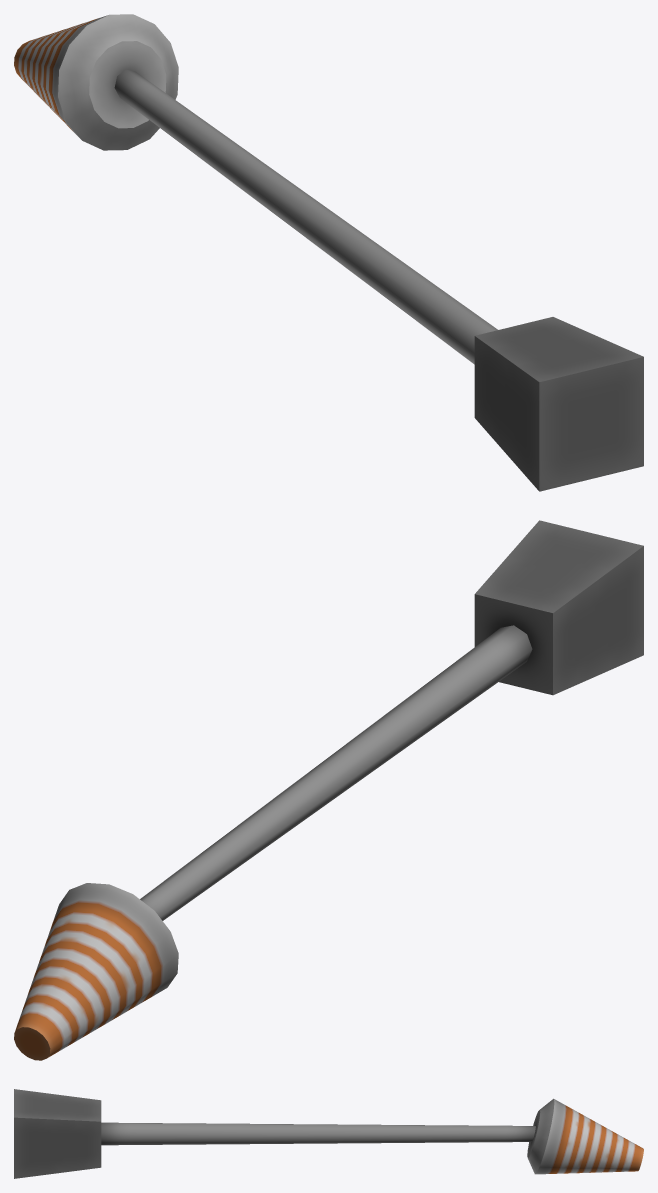
File: Libra_Antenna_1.obj
3 renders of one model, top to bottom at view 1: azimuth 30°, elevation 25°; view 2: azimuth 150°, elevation 25°; view 3: azimuth 270°, elevation 25°, orthographic. The views are drawn at different scales.
Parts seen in each view (by area): view 1: Libra_Antenna_1; view 2: Libra_Antenna_1; view 3: Libra_Antenna_1.
Boxes of the visible parts, bbox=[...] form: Libra_Antenna_1: bbox=[14, 14, 643, 491]; Libra_Antenna_1: bbox=[14, 520, 643, 1060]; Libra_Antenna_1: bbox=[14, 1089, 643, 1178].
Bounding box in the file's own units: 0.0809 × 0.0781 × 0.6519.
